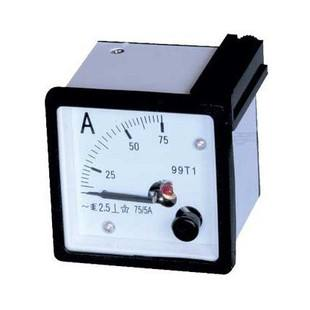pointer: (53, 105, 219, 263)
